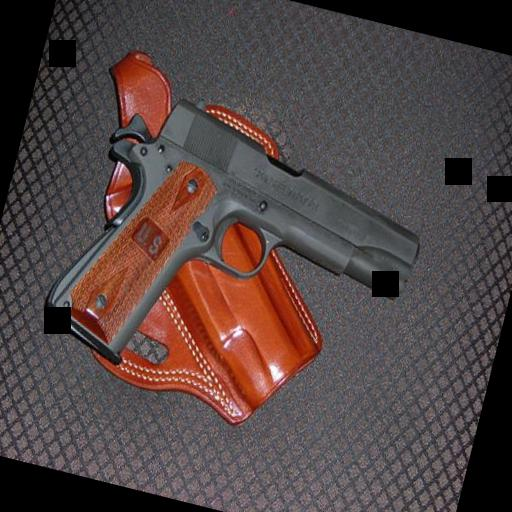Handgun: (30, 71, 444, 423)
